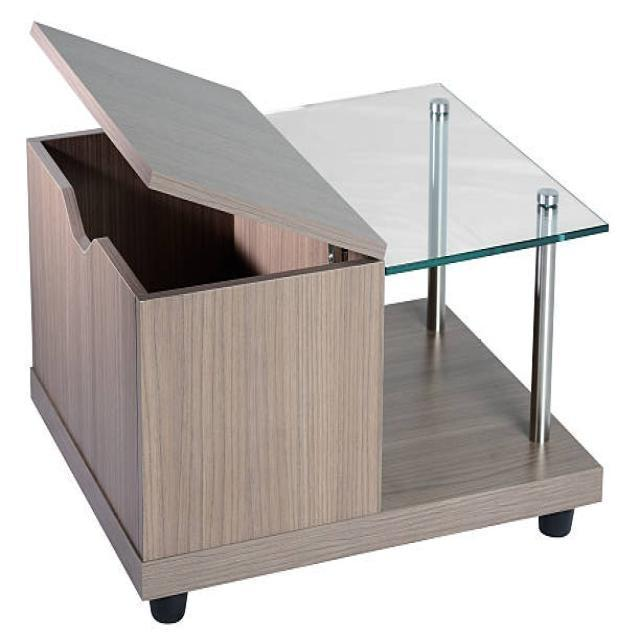table: (25, 21, 609, 623)
